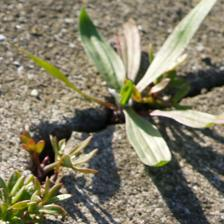Crack: (18, 33, 205, 114)
